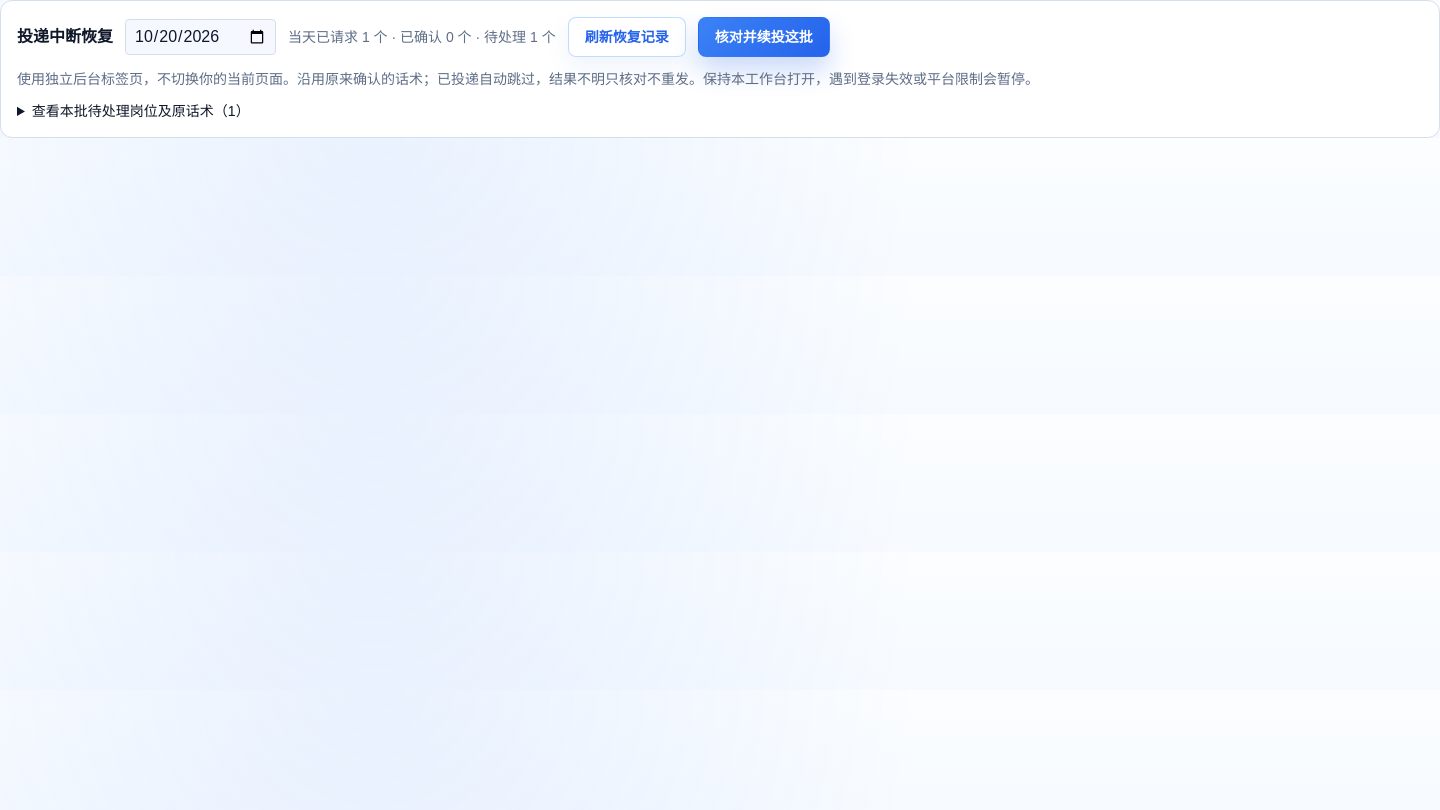
Test case: blocks an old extension before creating any new delivery attempt
Click the button "核对并续投这批" at (764, 37), box [698, 17, 830, 57]
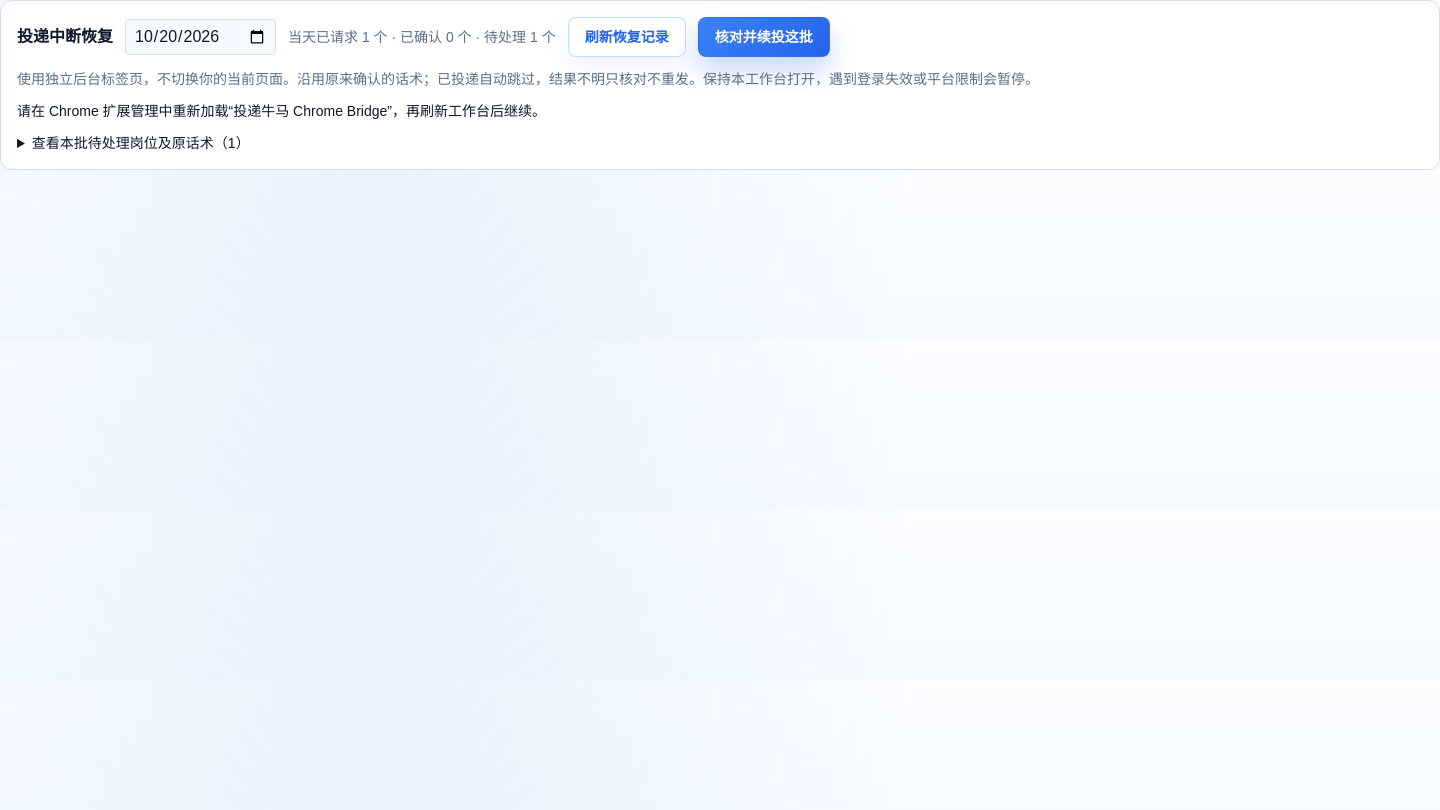
expect the text "请在 Chrome 扩展管理中重新加载“投递牛马 Chrome Bridge”，再刷新工作台后继续。" is shown: met, box [17, 103, 546, 119]
